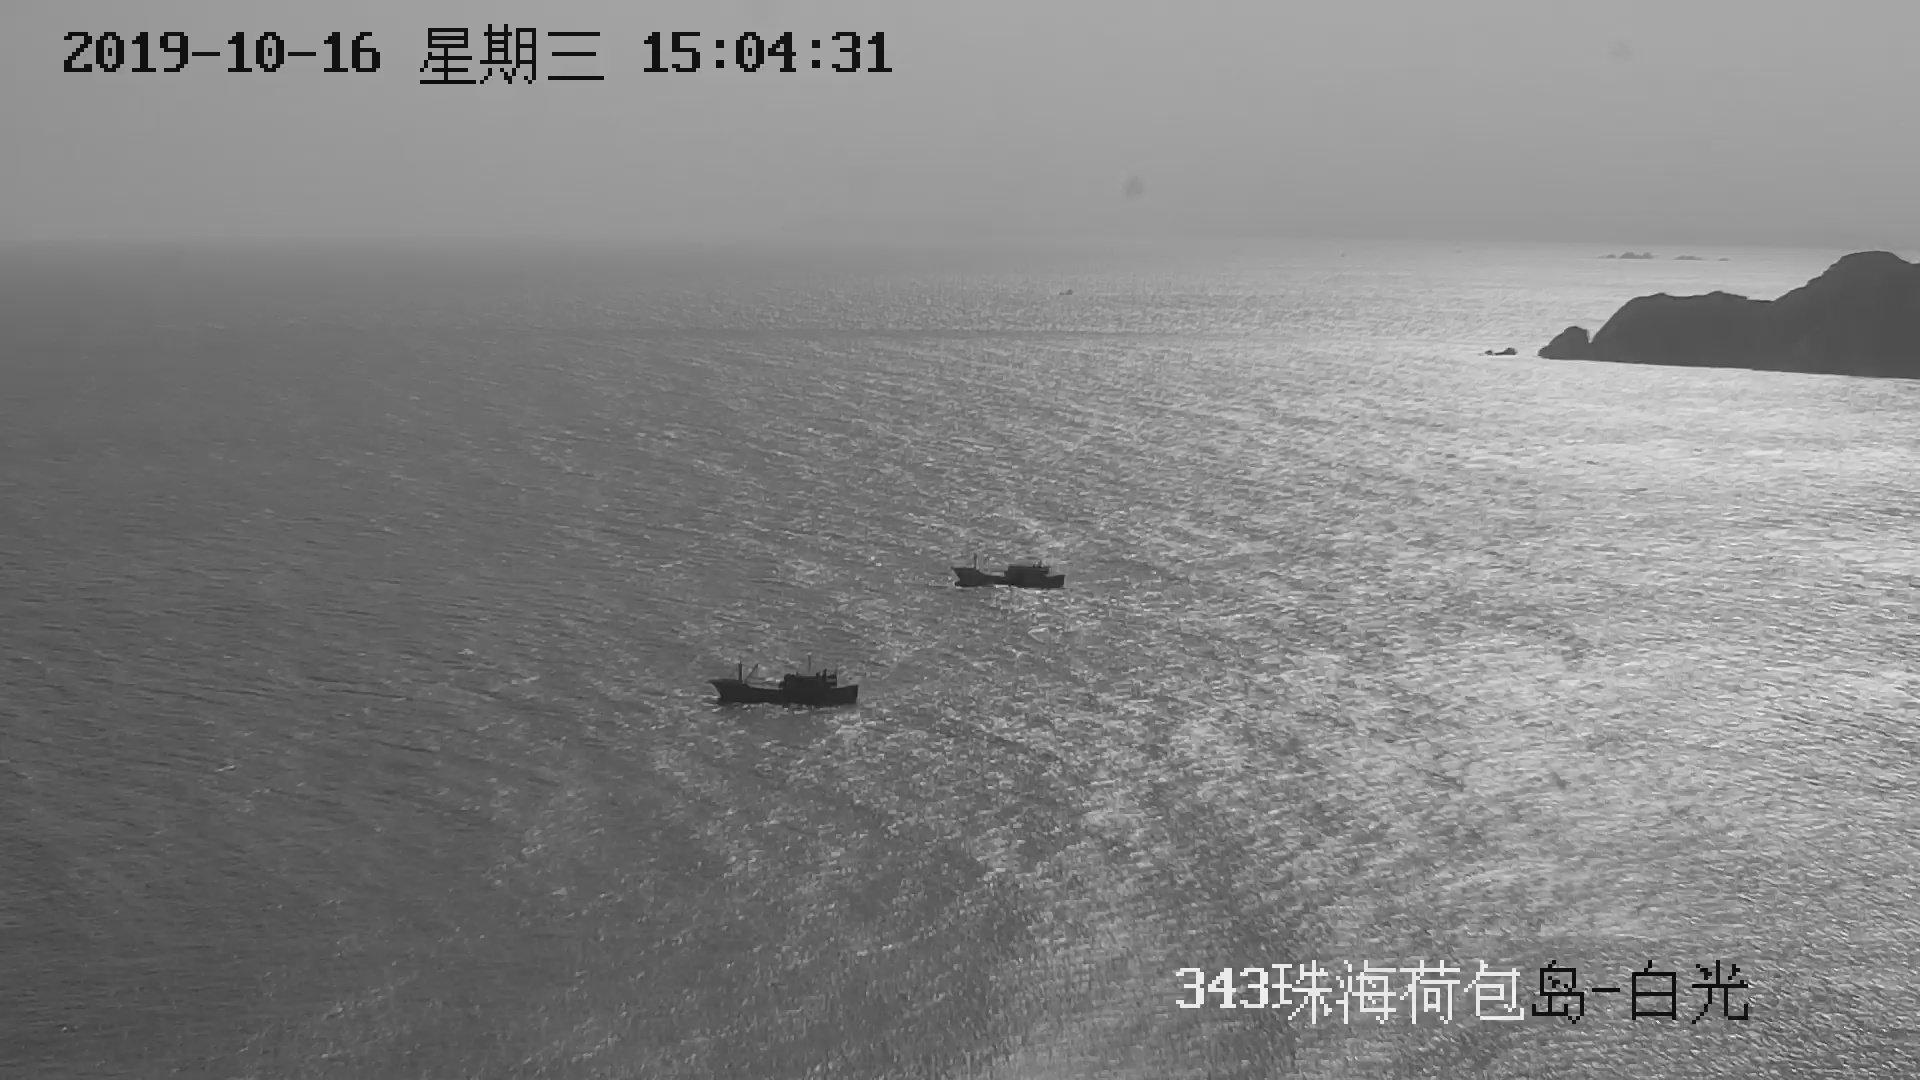ship: (708, 665, 860, 708), (953, 555, 1064, 593)
